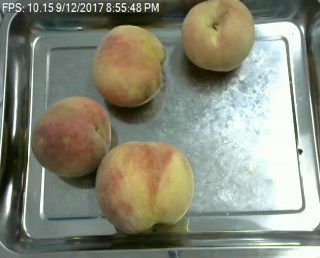Peach: (93, 140, 193, 234), (31, 95, 111, 178), (91, 25, 166, 108), (181, 0, 255, 72)
